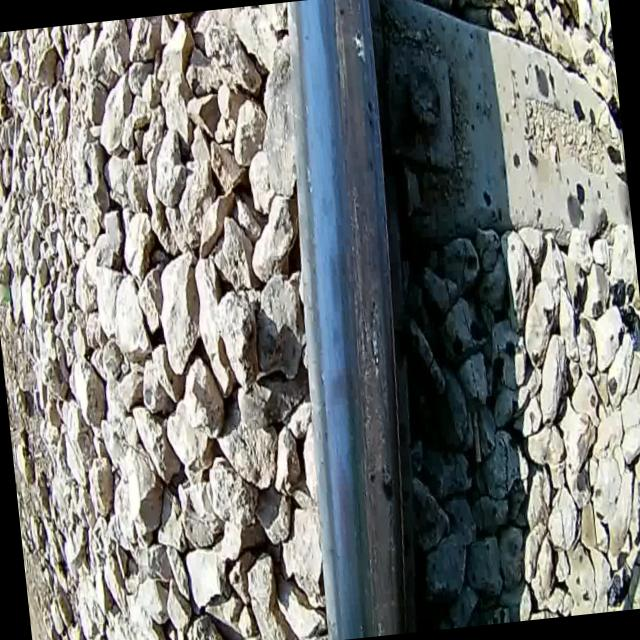Grooves: (301, 0, 408, 637)
